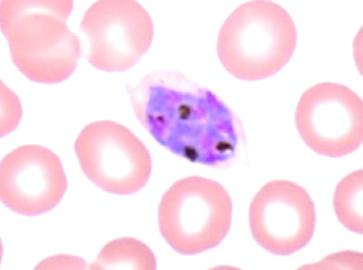Infected: (116, 98, 236, 201)
Uninfected: (67, 189, 146, 270), (130, 13, 204, 93), (211, 75, 289, 150), (210, 197, 284, 270), (0, 112, 68, 187), (46, 15, 113, 90), (281, 187, 353, 256), (294, 53, 363, 125)
